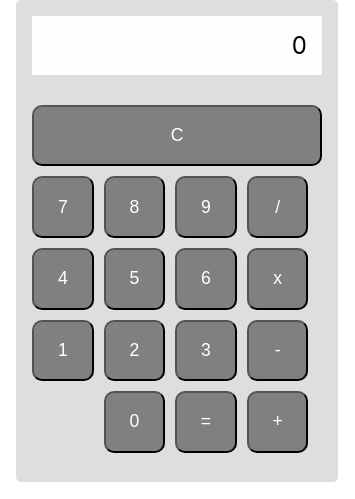
Test: Calculator › do the results of calculations appear on the display?
What coordinates should you click on to do the following:
click the button with id "number1"
I would click on:
 (63, 351)
Its box is x1=32 y1=320 x2=94 y2=382.
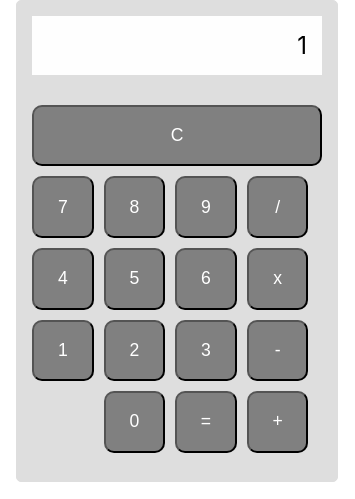
What coordinates should you click on to do the following:
click the button with id "operator_add"
I would click on:
 (278, 422)
Its box is x1=247 y1=391 x2=309 y2=453.
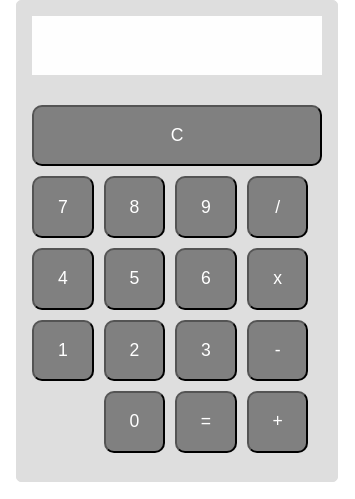
What coordinates should you click on to do the following:
click the button with id "number4"
I would click on:
 (63, 279)
Its box is x1=32 y1=248 x2=94 y2=310.
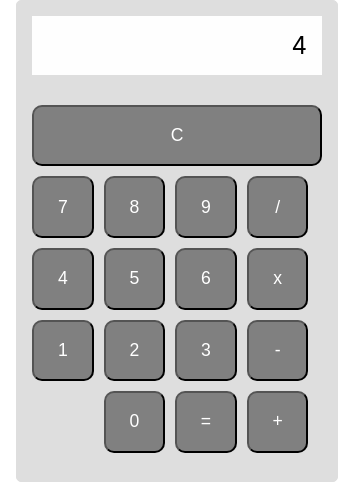
What coordinates should you click on to do the following:
click the button with id "operator_equals"
I would click on:
 (206, 422)
Its box is x1=175 y1=391 x2=237 y2=453.
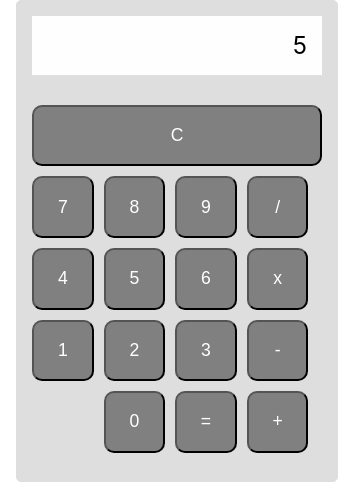
Now the text with class "display" reads "5", box x1=293 y1=31 x2=307 y2=60
